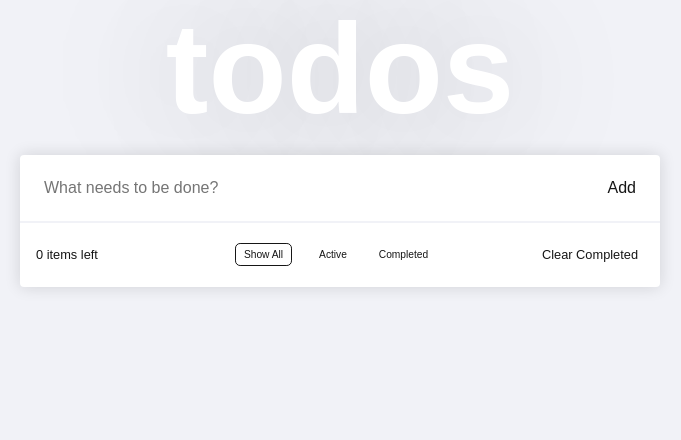
Test: filters active todos
Type "Active Todo" into the field with placeholder "What needs to be done?".
click(318, 188); type("Active Todo")  # box 36,170 -> 600,204
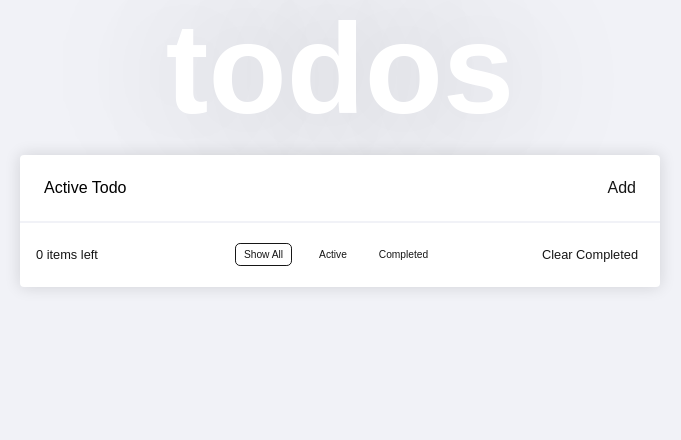
Click the button "Add".
click(622, 188)  # box 600,170 -> 644,204
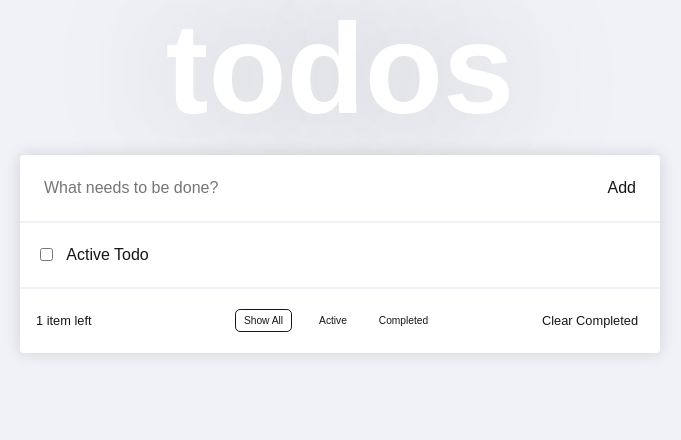
Type "Completed Todo" into the field with placeholder "What needs to be done?".
click(318, 188); type("Completed Todo")  # box 36,170 -> 600,204
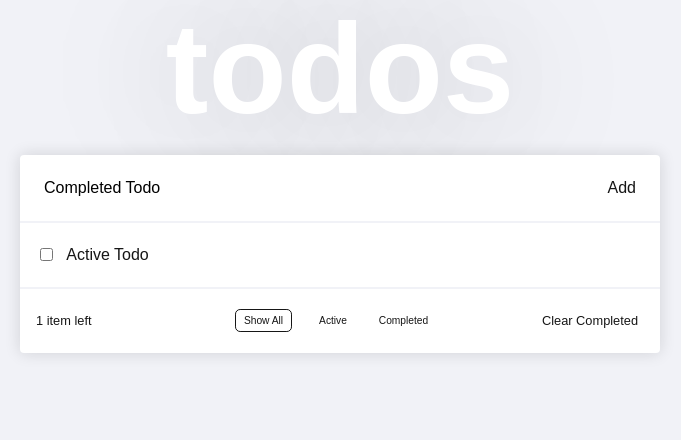
Click the button "Add".
click(622, 188)  # box 600,170 -> 644,204
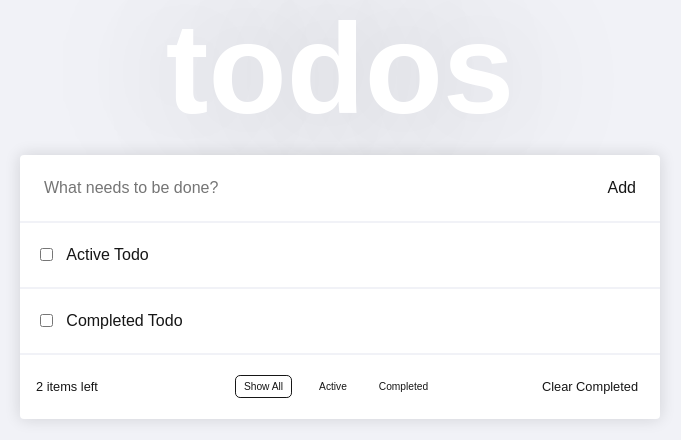
Click the checkbox next to "Completed Todo".
click(46, 320)  # box 40,314 -> 53,327
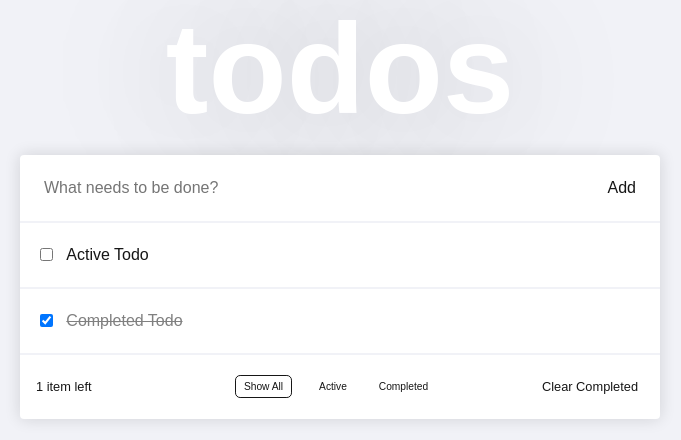
Click the button "Active".
click(333, 386)  # box 305,375 -> 361,398
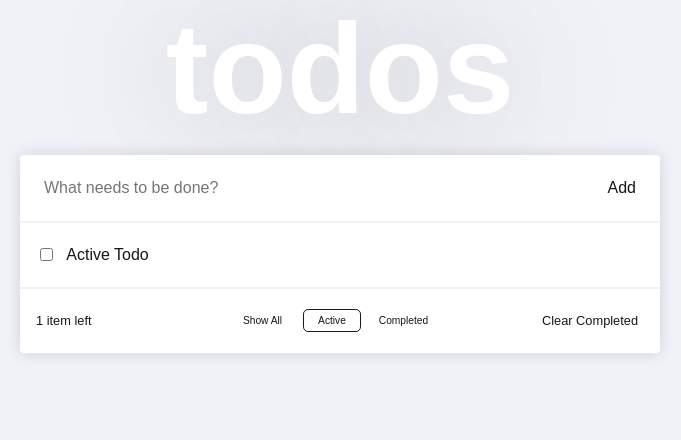
Expected: the text "Active Todo" is shown, 66,246 -> 149,262
Expected: the text "Completed Todo" is gone
